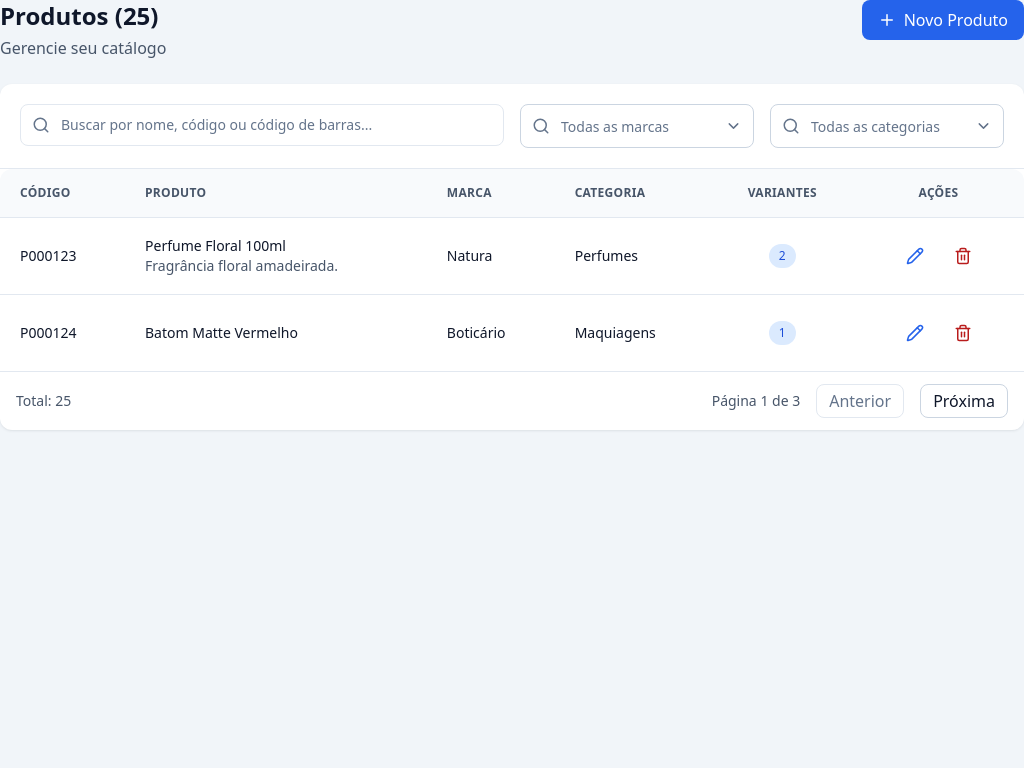
Test case: ProductListPage › excluir pede confirmação e 409 PRODUCT_IN_USE mostra a mensagem uma vez
expect the link "Perfume Floral 100ml" is shown: met, box [145,236,286,255]
Click the button named "Excluir Perfume Floral 100ml".
click(962, 256)  # box [940,234,984,278]
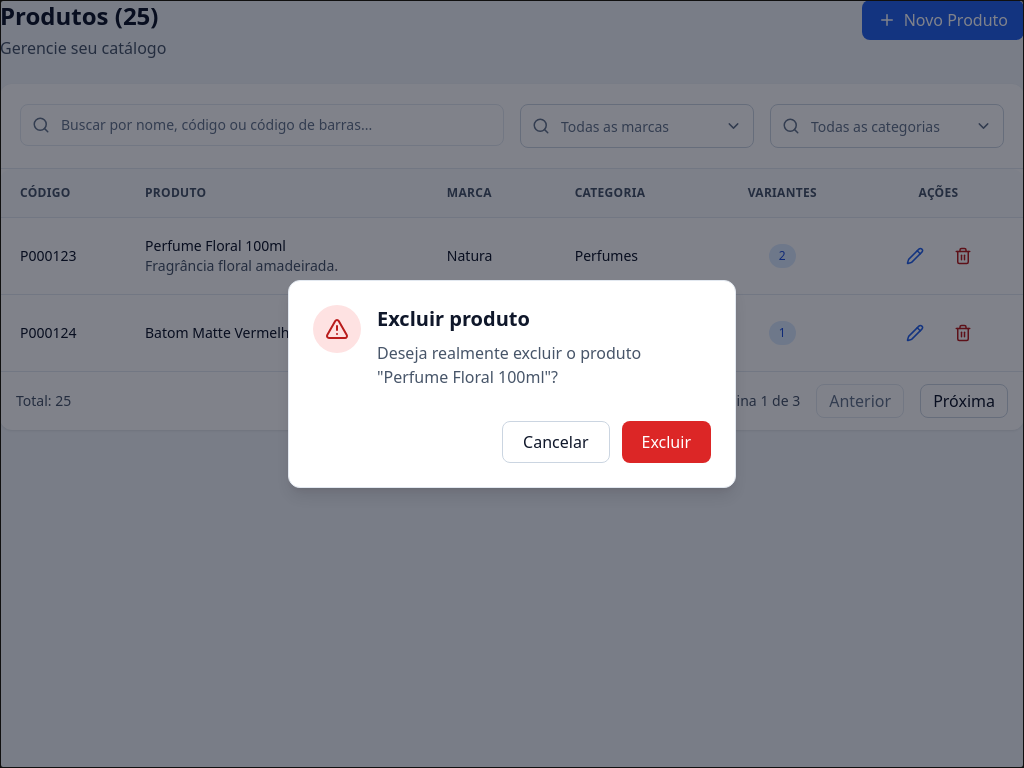
Click the button "Excluir".
click(666, 442)  # box [622,421,711,463]
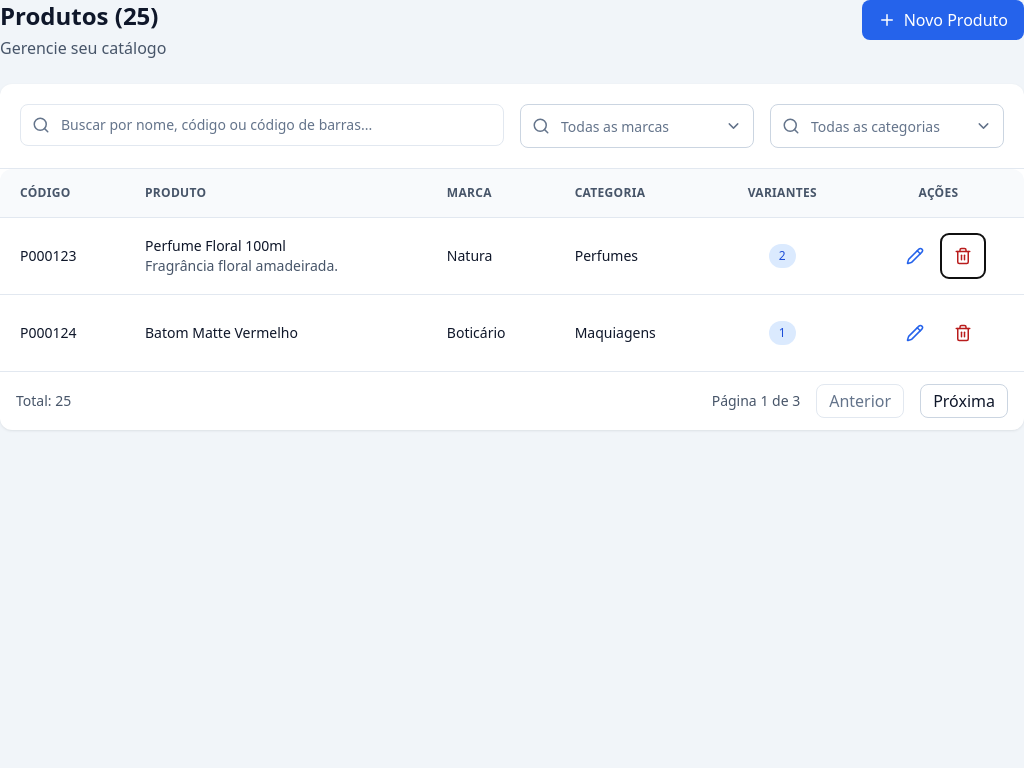
expect the heading "Excluir produto" is gone: met
